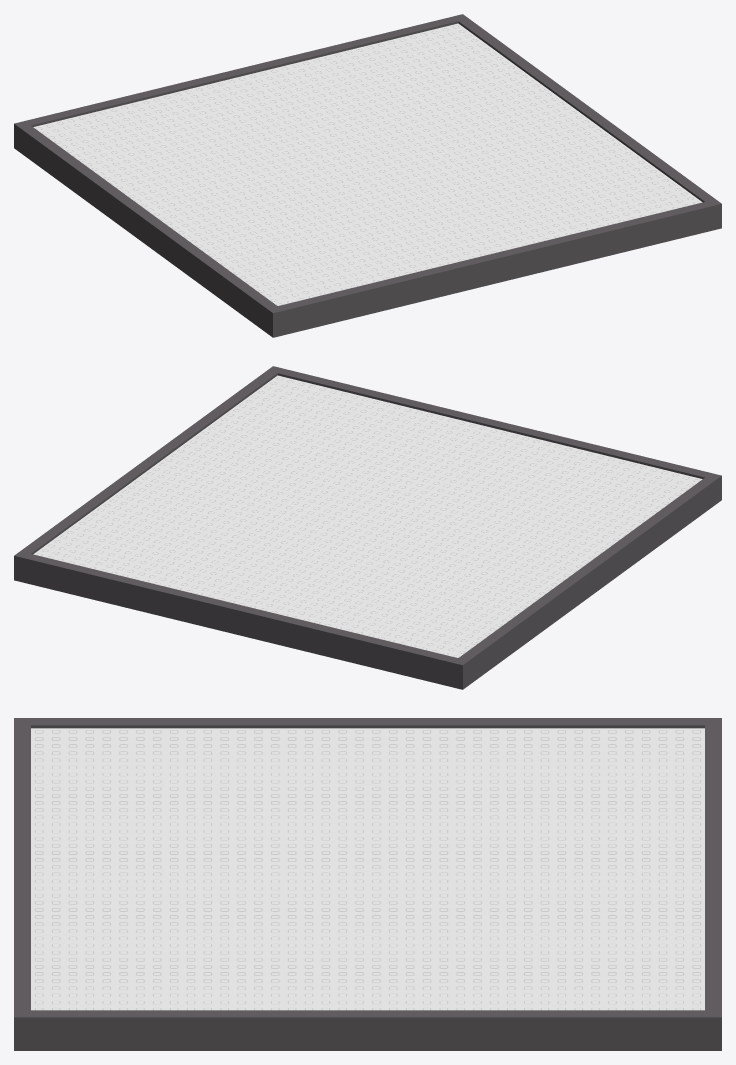
File: lobby_platform.obj
3 renders of one model, top to bottom at view 1: azimuth 30°, elevation 25°; view 2: azimuth 150°, elevation 25°; view 3: azimuth 270°, elevation 25°, orthographic. The views are drawn at different scales.
Parts seen in each view (by area): view 1: Floor, TrimBack, TrimLeft, TrimFront, TrimRight; view 2: Floor, TrimFront, TrimLeft, TrimBack, TrimRight; view 3: Floor, TrimRight, TrimLeft, TrimBack, TrimFront.
Boxes of the visible parts, <box> form: Floor: <box>33,23,702,305</box>; TrimBack: <box>267,199,721,337</box>; TrimLeft: <box>20,125,277,332</box>; TrimFront: <box>14,14,468,152</box>; TrimRight: <box>458,18,715,202</box>; Floor: <box>33,375,702,657</box>; TrimFront: <box>14,551,468,689</box>; TrimLeft: <box>458,477,715,684</box>; TrimBack: <box>267,366,721,504</box>; TrimRight: <box>20,370,277,554</box>; Floor: <box>31,728,704,1010</box>; TrimRight: <box>31,1010,704,1050</box>; TrimLeft: <box>31,718,704,728</box>; TrimBack: <box>14,718,30,1050</box>; TrimFront: <box>705,718,721,1050</box>.
Size of the model in its own units: 42 by 2.2 by 42.
